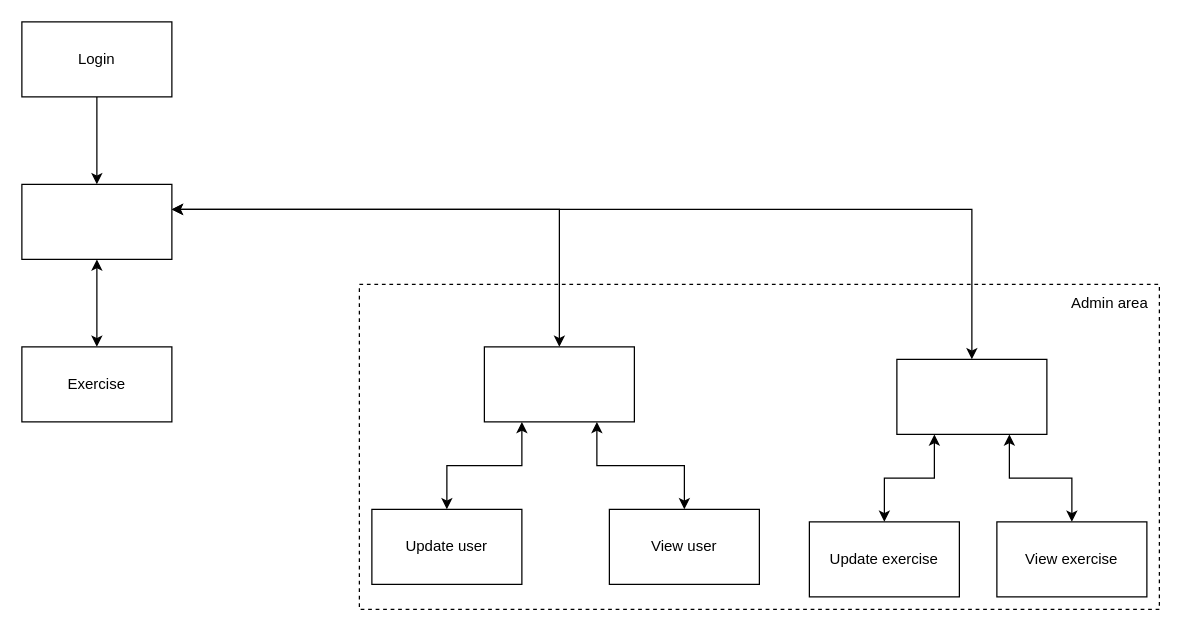
Some shapes in this 1181 by 631 pixel diagram are drawn without their labels. Each missing label, with the centre of its shape:
"Exercise Management" belongs at point (971, 396).
"Homepage" belongs at point (96, 221).
"User Management" belongs at point (558, 384).
